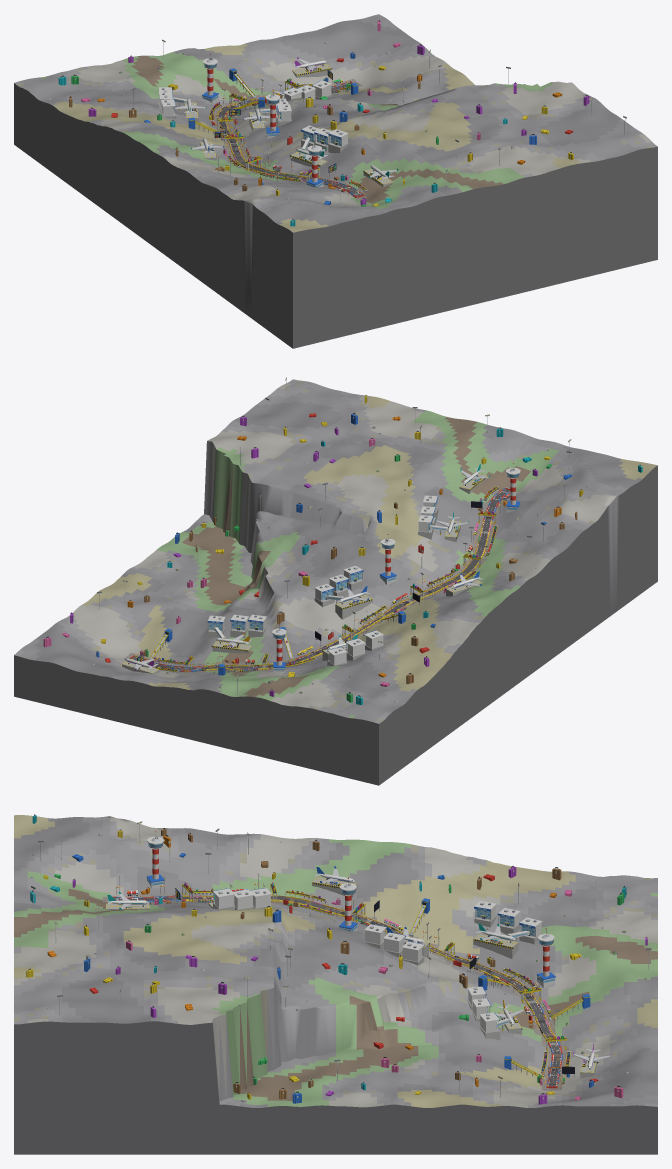
3 renders of one model, top to bottom at view 1: azimuth 30°, elevation 25°; view 2: azimuth 150°, elevation 25°; view 3: azimuth 270°, elevation 25°, orthographic. The views are drawn at different scales.
Visible parts, largest first — view 1: grass, buildings, theme, road, hay; view 2: grass, buildings, theme, road, hay; view 3: grass, buildings, theme, road, hay.
Part boxes in pixels (<box>): grass: <box>14,14,657,348</box>; buildings: <box>58,20,625,226</box>; theme: <box>60,20,626,226</box>; road: <box>217,82,361,196</box>; hay: <box>216,81,363,197</box>; grass: <box>14,379,657,785</box>; buildings: <box>43,380,642,704</box>; theme: <box>45,377,641,704</box>; road: <box>131,489,510,669</box>; hay: <box>129,488,510,671</box>; grass: <box>14,815,657,1154</box>; buildings: <box>26,815,648,1104</box>; theme: <box>27,814,651,1104</box>; road: <box>113,896,561,1086</box>; hay: <box>112,895,562,1088</box>.
Bounding box in the file's own units: 355 × 133 × 470.
